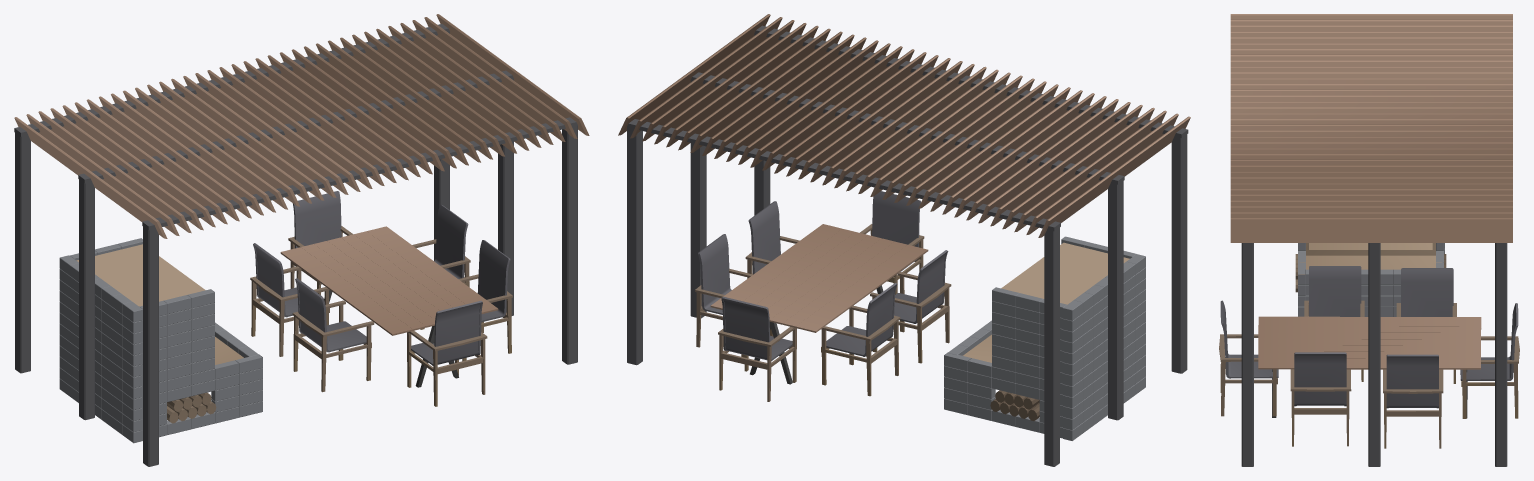
Rendered from Gazebo with barbecue.fbx.
3 renders of one model, left to right at view 1: azimuth 30°, elevation 25°; view 2: azimuth 150°, elevation 25°; view 3: azimuth 270°, elevation 25°, orthographic.
Visible parts, largest first — view 1: Cube.746; view 2: Cube.746; view 3: Cube.746.
Boxes of the visible parts, x1,y1,x2,y2 form: Cube.746: (14, 14, 589, 466); Cube.746: (618, 14, 1190, 466); Cube.746: (1219, 14, 1519, 466).
Bounding box in the file's own units: 11.06 × 6.67 × 6.08.
